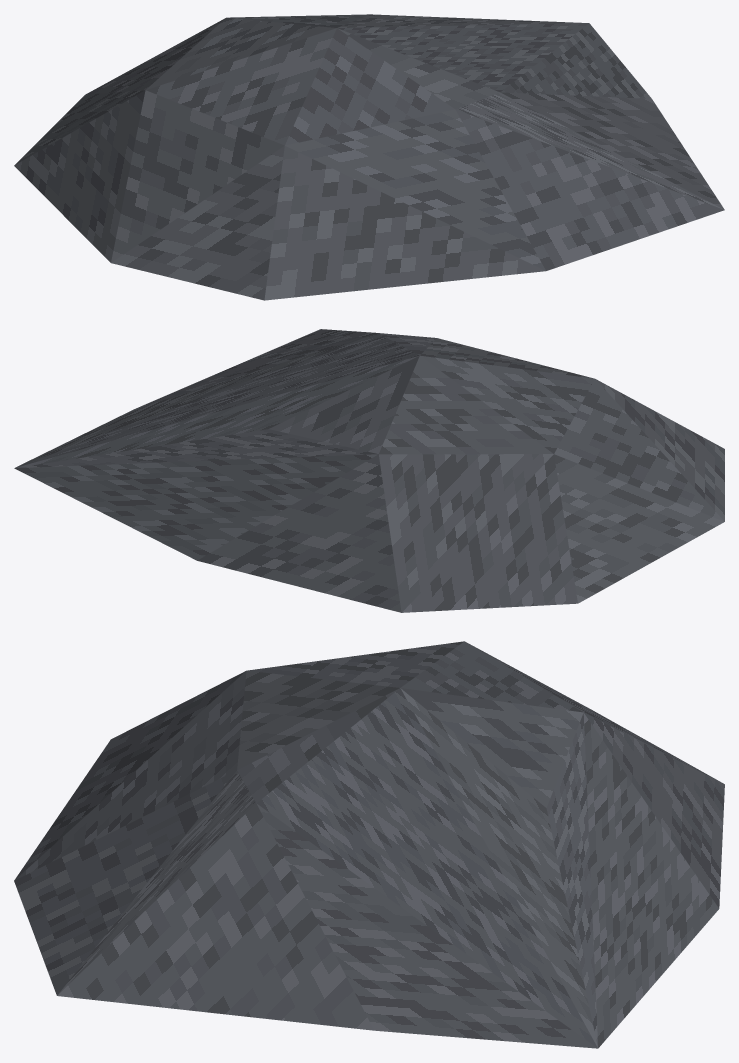
File: dye_powder.glb
3 renders of one model, top to bottom at view 1: azimuth 30°, elevation 25°; view 2: azimuth 150°, elevation 25°; view 3: azimuth 270°, elevation 25°, orthographic. The views are drawn at different scales.
Parts seen in each view (by area): view 1: block_loose material; view 2: block_loose material; view 3: block_loose material.
Part boxes in pixels (box(x1,y1,x2,y2)): block_loose material: box(14, 14, 724, 300); block_loose material: box(14, 329, 724, 612); block_loose material: box(14, 641, 724, 1048).
Size of the model in its own units: 0.019 by 0.00412 by 0.0161.
Materials: 1 (1 with a texture image).
